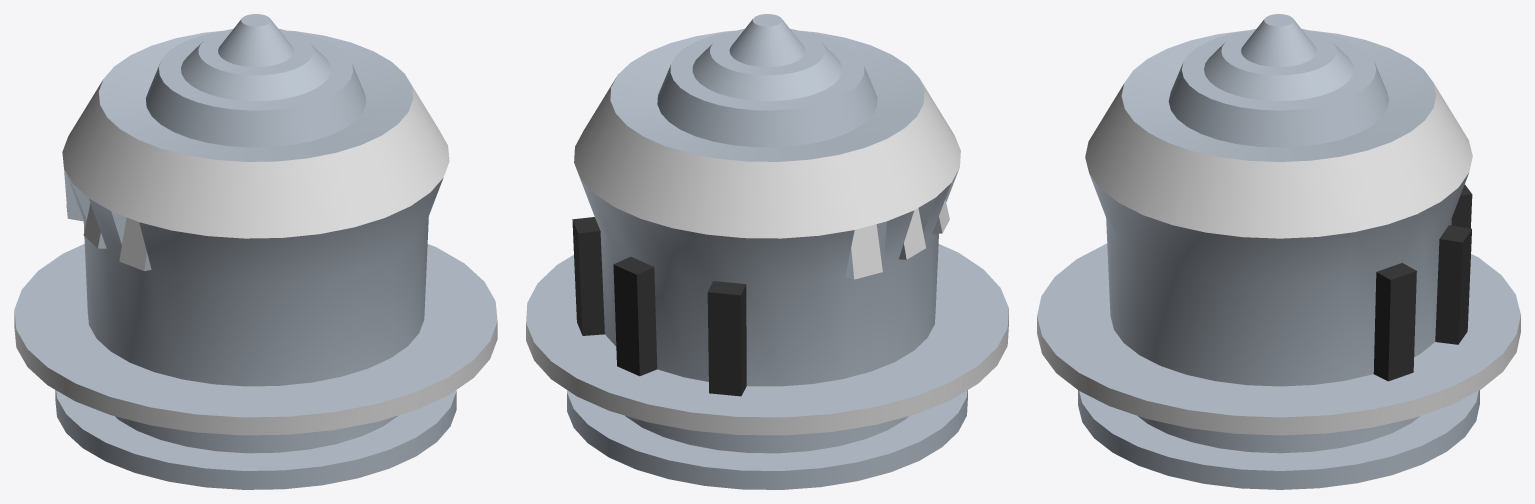
3 renders of one model, left to right at view 1: azimuth 30°, elevation 25°; view 2: azimuth 150°, elevation 25°; view 3: azimuth 270°, elevation 25°, orthographic.
Parts seen in each view (by area): view 1: bucket; view 2: bucket; view 3: bucket.
Boxes of the visible parts, x1,y1,x2,y2 form: bucket: (14,14,497,489); bucket: (526,14,1008,489); bucket: (1037,14,1520,489).
Size of the model in its own units: 104 by 90.93 by 104.
